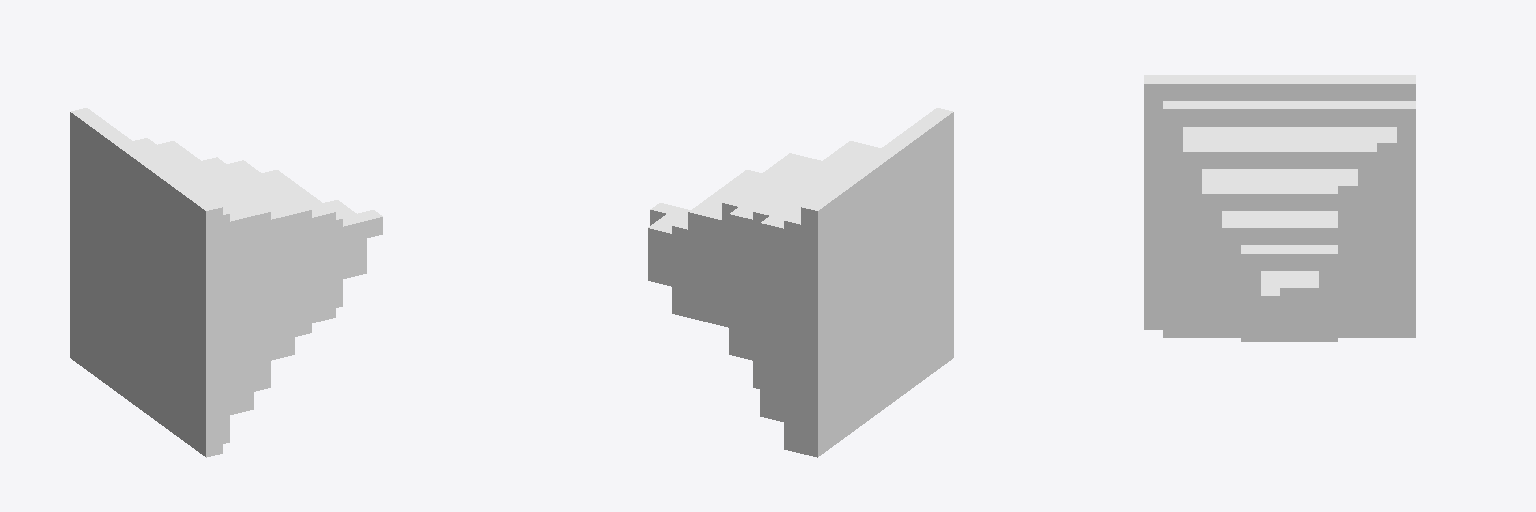
Rendered from obstacle2-1-spike0.obj.
The picture shows the model from 3 angles: view 1: azimuth 30°, elevation 25°; view 2: azimuth 150°, elevation 25°; view 3: azimuth 270°, elevation 25°; orthographic projection.
Parts seen in each view (by area): view 1: spike0; view 2: spike0; view 3: spike0.
Part boxes in pixels (x1,y1,x2,y2): spike0: (70, 108, 382, 457); spike0: (648, 108, 953, 457); spike0: (1144, 75, 1415, 341).
Size of the model in its own units: 1.4 by 1.4 by 1.4.